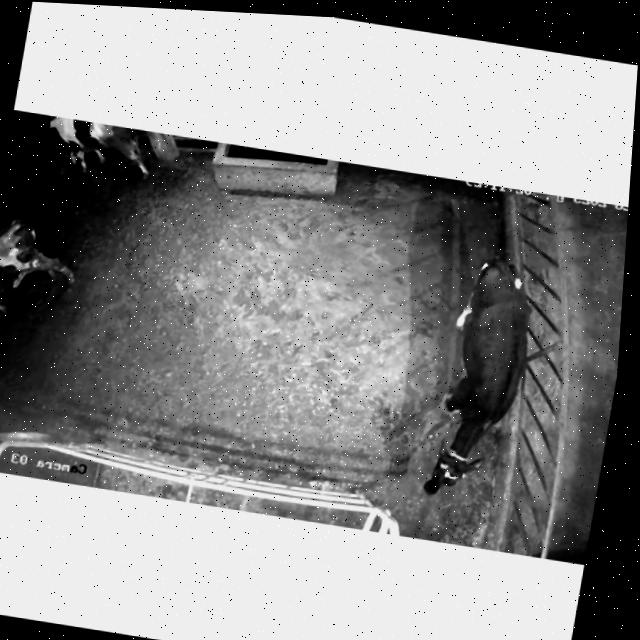stand: (403, 248, 548, 514), (0, 203, 117, 369), (32, 113, 160, 191)
